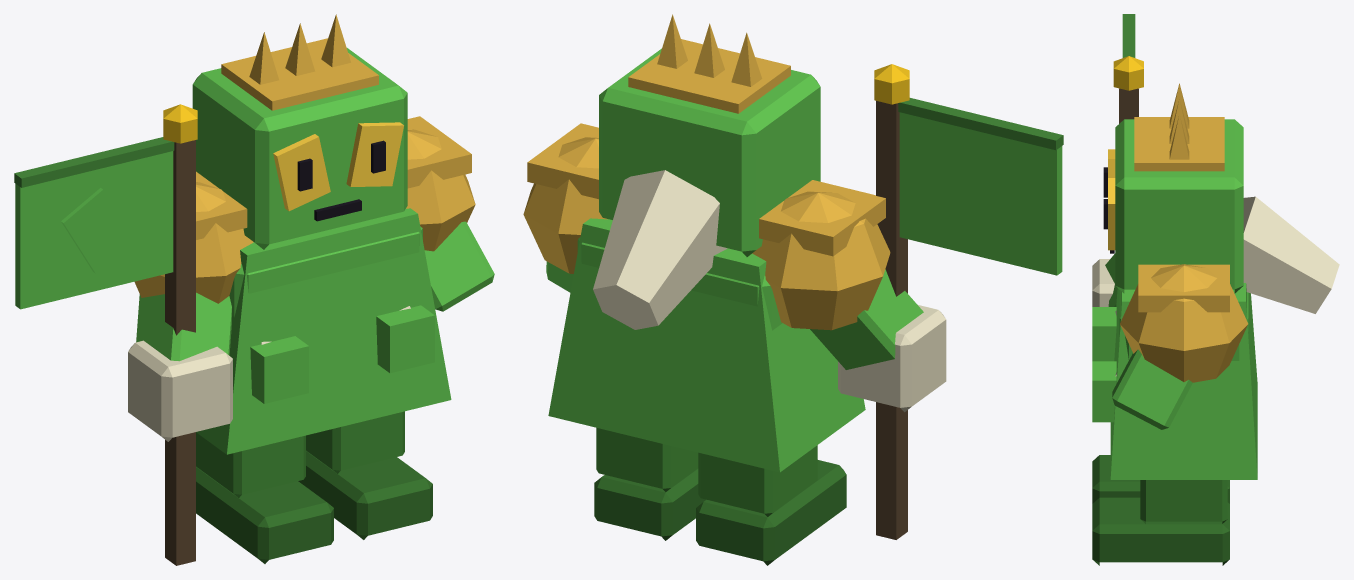
The model's file is r10_mini_mantis_commander.glb.
The picture shows the model from 3 angles, left to right: view 1: azimuth 30°, elevation 25°; view 2: azimuth 150°, elevation 25°; view 3: azimuth 270°, elevation 25°; orthographic projection. The views are drawn at different scales.
Parts seen in each view (by area): view 1: r10_mini_mantis_commander_mesh; view 2: r10_mini_mantis_commander_mesh; view 3: r10_mini_mantis_commander_mesh.
Part boxes in pixels (x1,y1,x2,y2): r10_mini_mantis_commander_mesh: (14,14,494,565); r10_mini_mantis_commander_mesh: (523,14,1063,565); r10_mini_mantis_commander_mesh: (1092,14,1339,565).
Size of the model in its own units: 4.74 by 4.6 by 2.38.
Materials: 1 (1 with a texture image).
